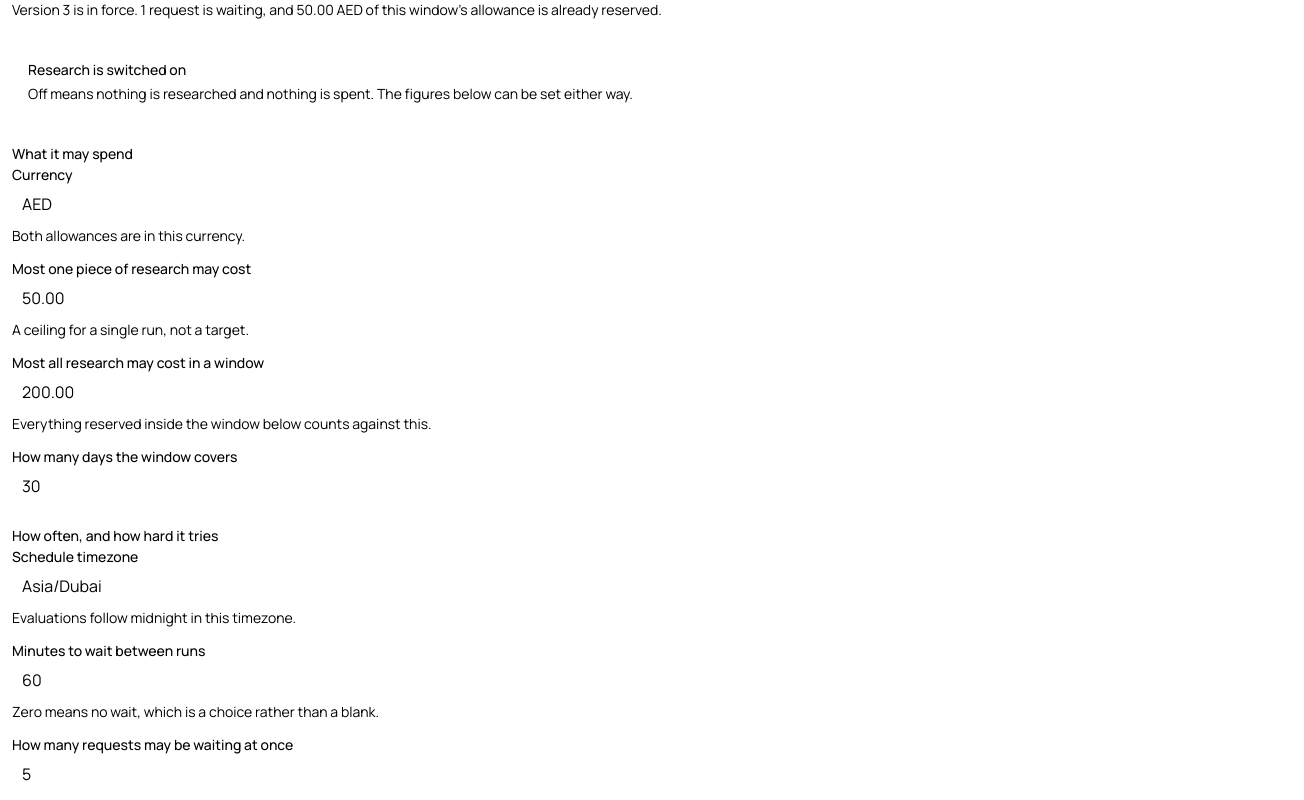
Test case: setting what research may spend › refuses a window allowance smaller than one run
The image size is (1304, 800).
Replace the text in the field labelled "Most all research may cost in a window" with "10": (652, 392) [12,376,1292,408]
(page scrolled)
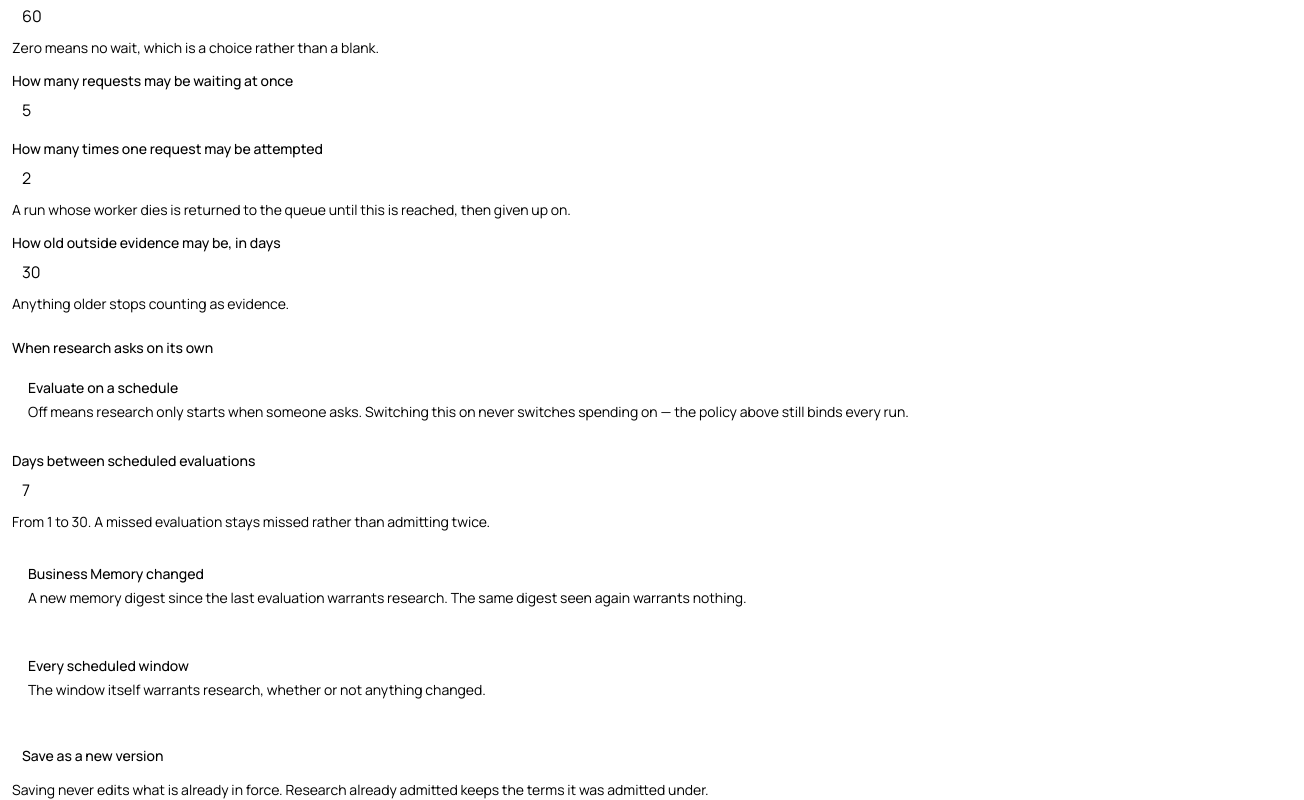
Click the button "Save as a new version": (93, 756) [12,740,173,772]
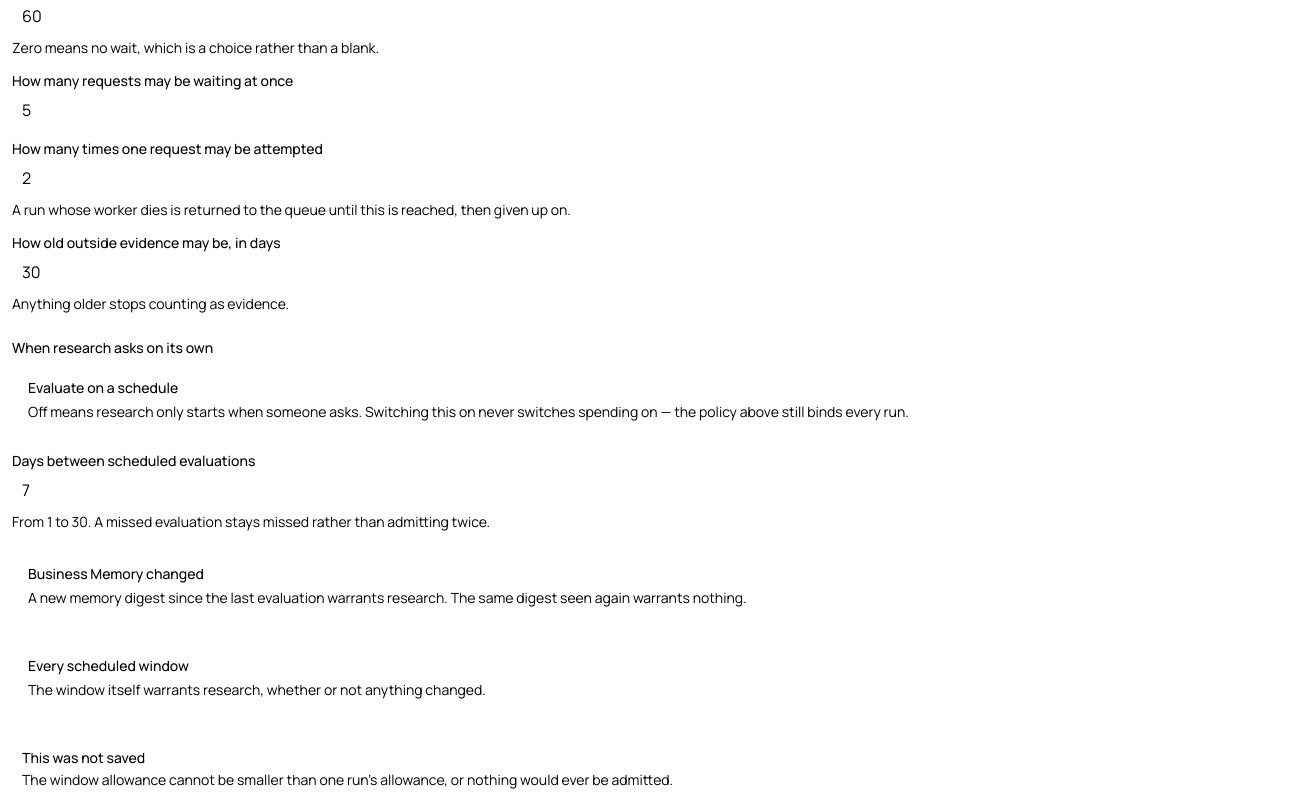
Expected: the message shows "cannot be smaller than one run", [22,770,673,789]
